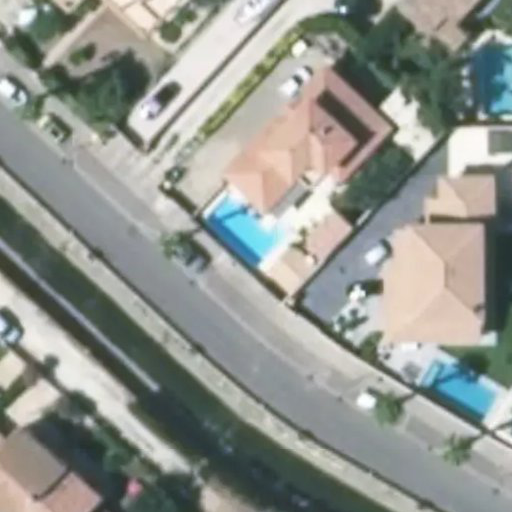pool: (223, 234, 284, 247)
